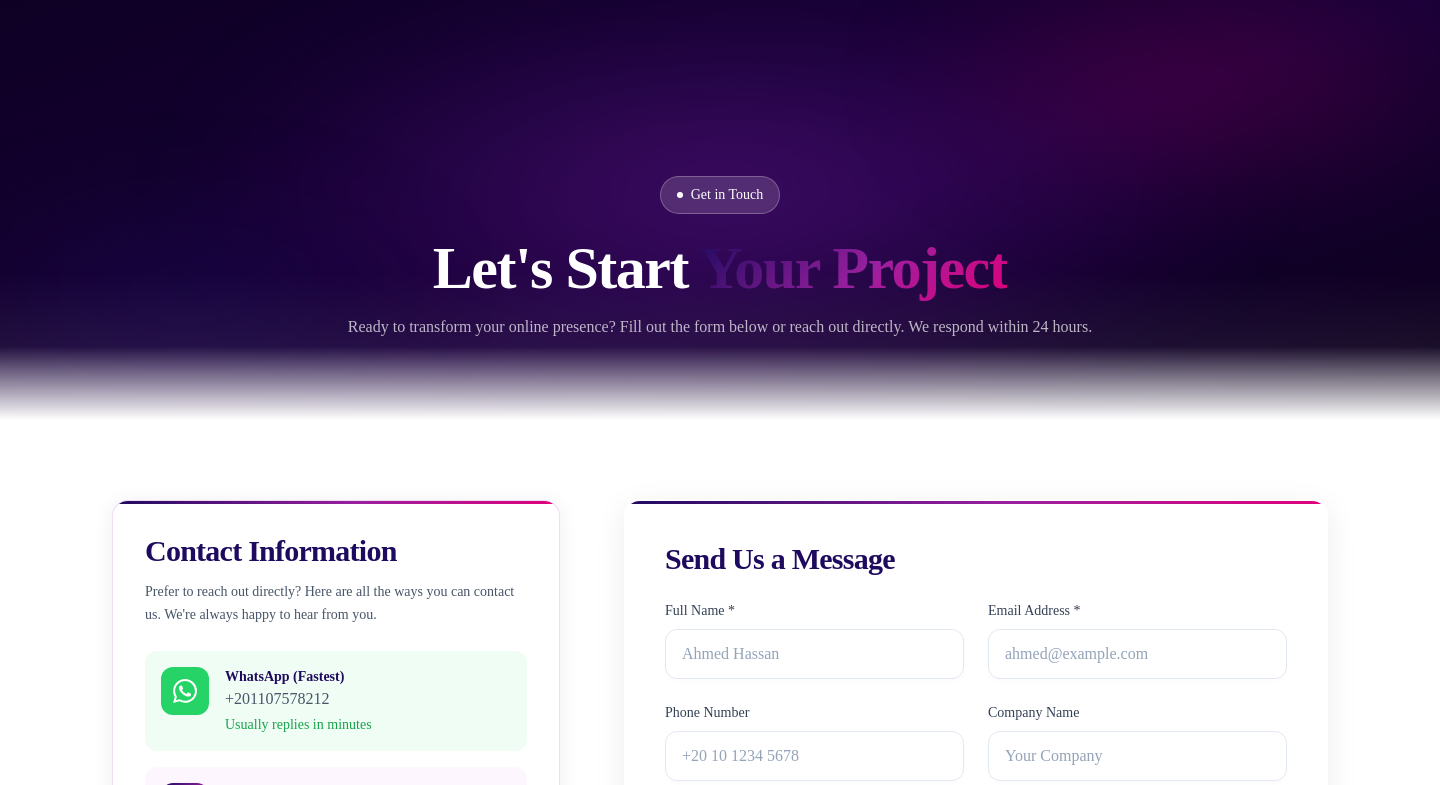
Test: ContactPage client-side validation › shows a field error for an invalid email without submitting
Type "Karim Hassan" into the field labelled "Full Name *" at (814, 654), box [665,629,964,679]
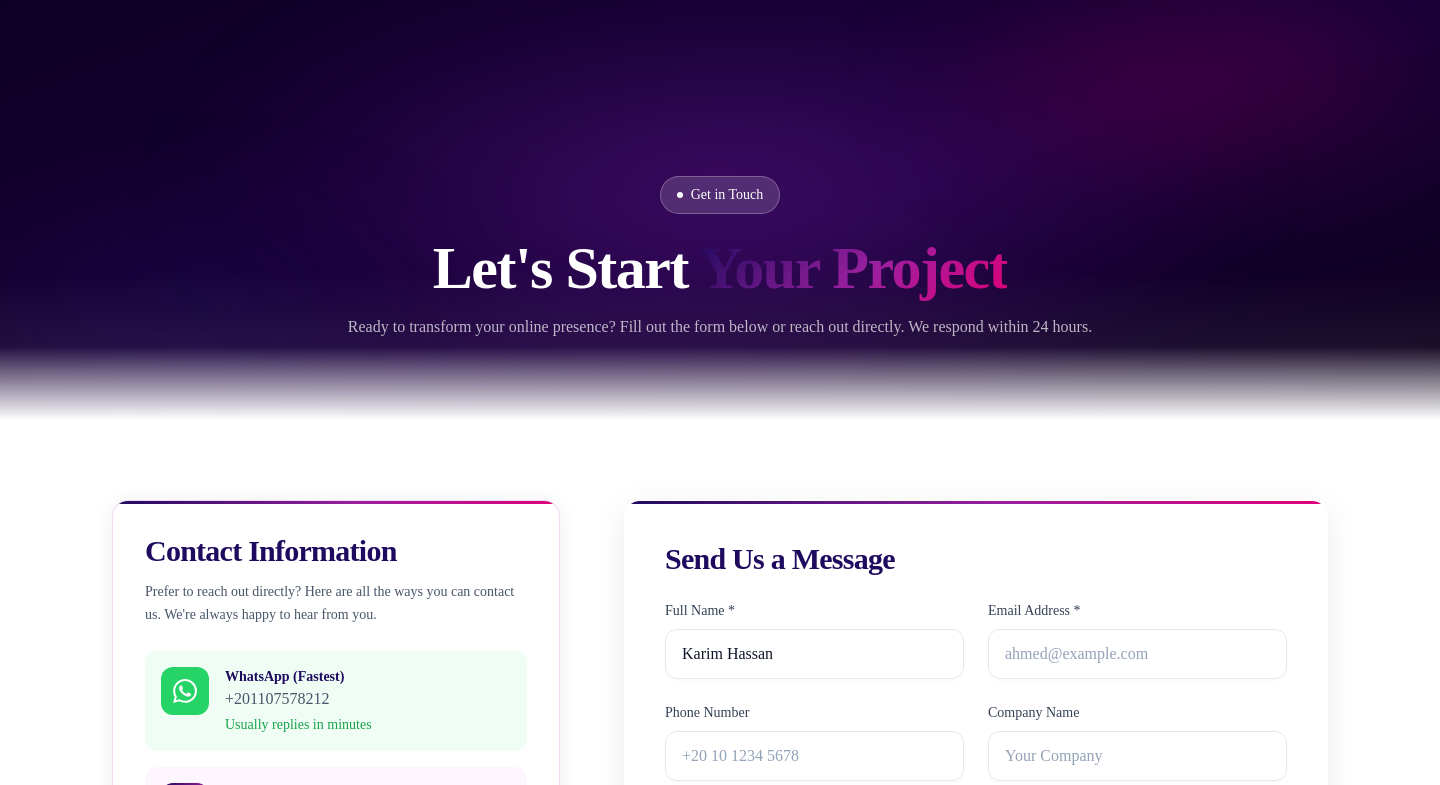
Type "not-an-email" into the field labelled "Email Address *" at (1138, 654), box [988,629,1287,679]
(page scrolled)
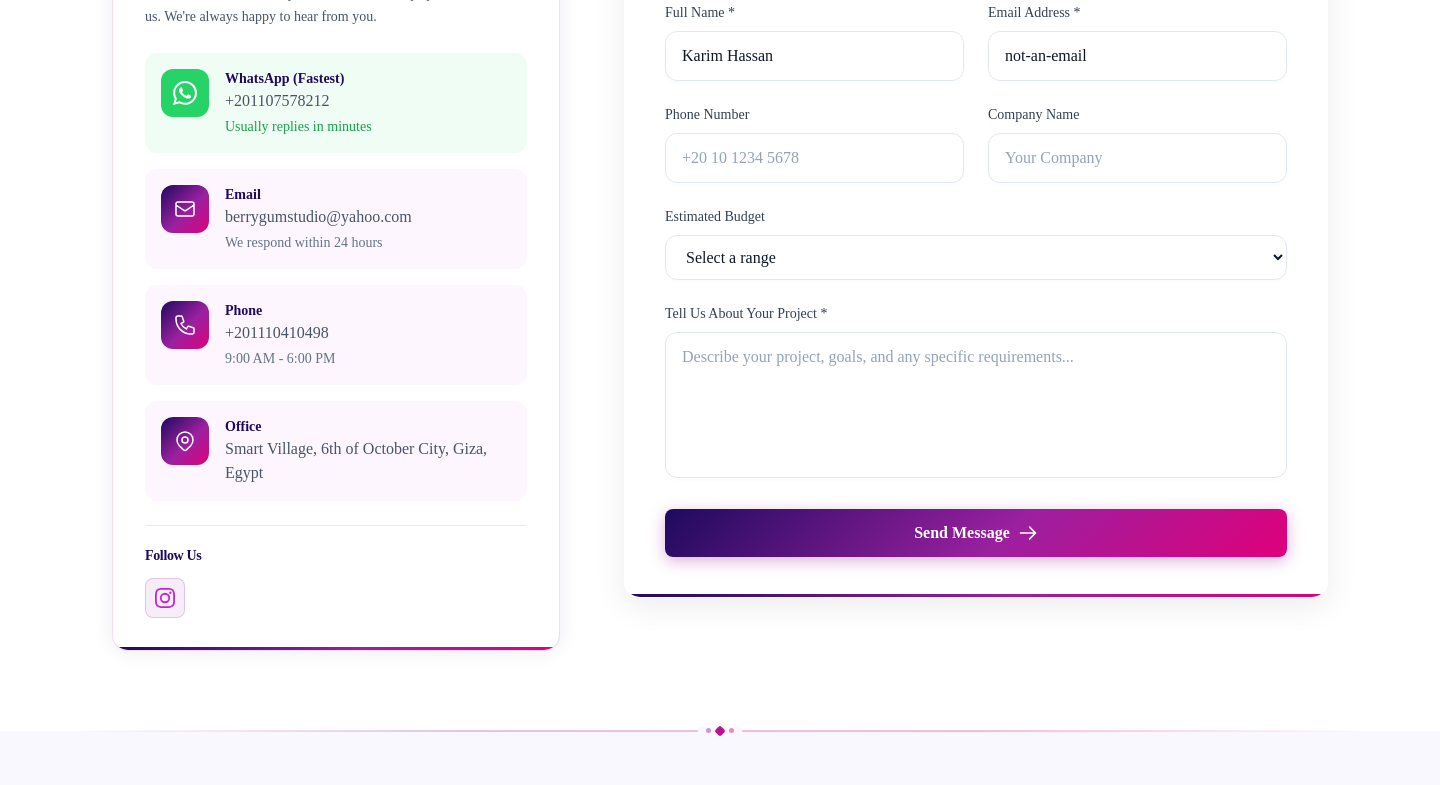
Replace the text in the text box labelled "Tell Us About Your Project *" with "I would like a quote for a new website." at (976, 405), box [665,332,1287,478]
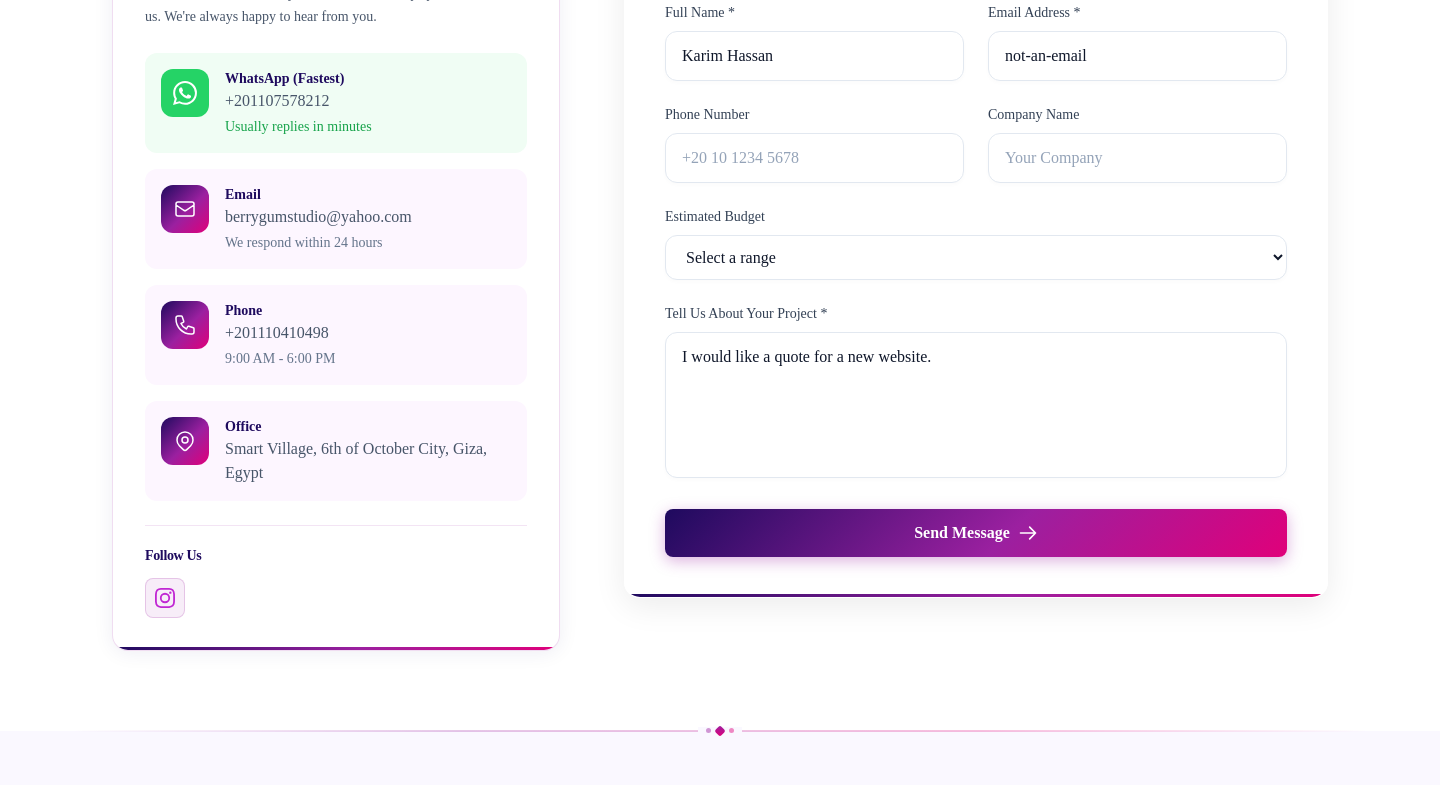
Click the button "Send Message" at (976, 533), box [665,509,1287,557]
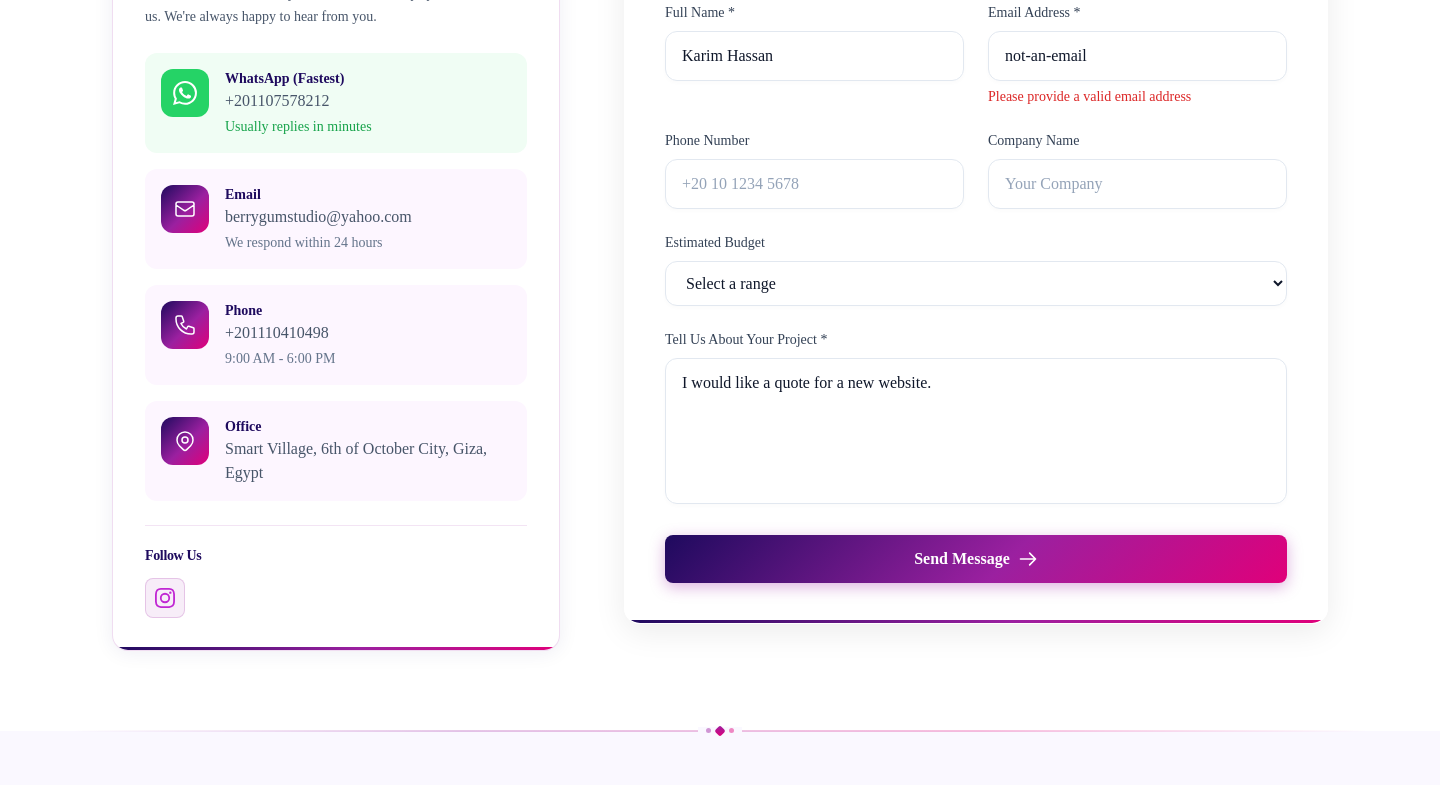
Check: the text "Please provide a valid email address" is shown, box [988,89,1191,104]
